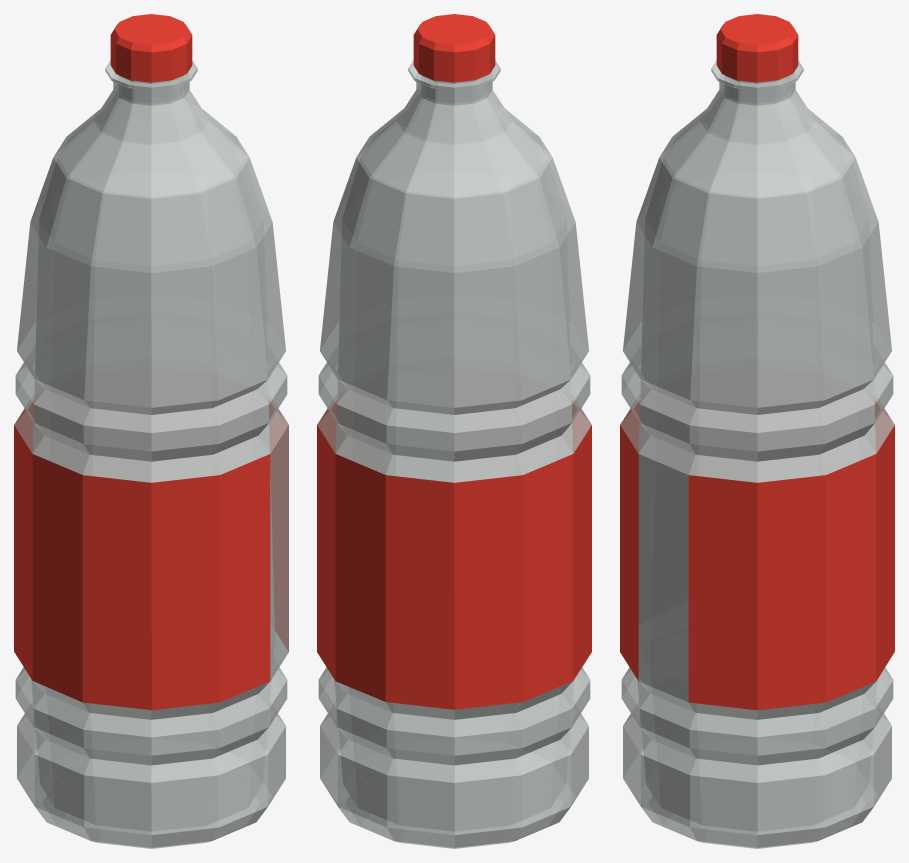
The model's file is Bottle.glb.
3 renders of one model, left to right at view 1: azimuth 30°, elevation 25°; view 2: azimuth 150°, elevation 25°; view 3: azimuth 270°, elevation 25°, orthographic.
Visible parts, largest first — view 1: 3DGeom-2, 3DGeom-1, 3DGeom-3; view 2: 3DGeom-2, 3DGeom-1, 3DGeom-3; view 3: 3DGeom-2, 3DGeom-1, 3DGeom-3.
Part boxes in pixels (box(x1,y1,x2,y2)): 3DGeom-2: box(14, 60, 288, 848); 3DGeom-1: box(14, 400, 288, 710); 3DGeom-3: box(110, 14, 192, 82); 3DGeom-2: box(317, 60, 591, 848); 3DGeom-1: box(317, 400, 591, 709); 3DGeom-3: box(413, 14, 495, 82); 3DGeom-2: box(620, 60, 894, 848); 3DGeom-1: box(620, 400, 894, 710); 3DGeom-3: box(716, 14, 798, 82).
Size of the model in its own units: 0.4399 by 1.37 by 0.4399.
